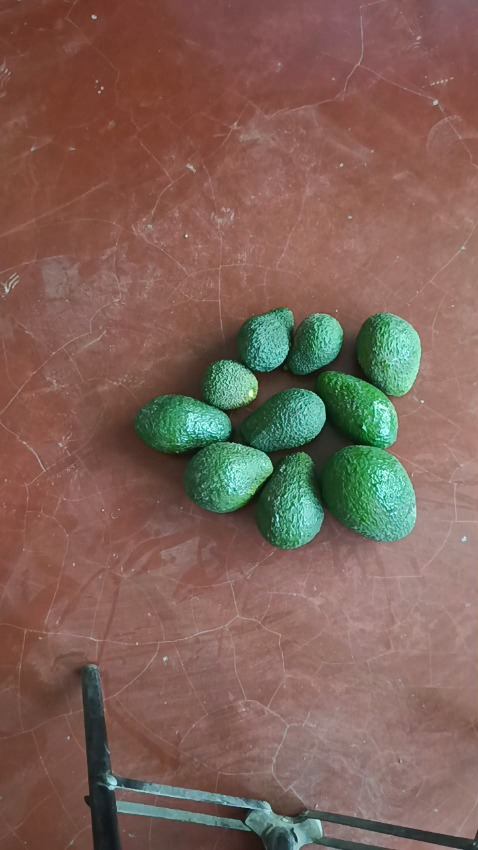Primera: (318, 444, 417, 540)
Segunda: (255, 453, 325, 547), (314, 370, 398, 448), (184, 441, 274, 513), (134, 395, 231, 454), (355, 312, 422, 396), (240, 388, 326, 453)
Tercera: (236, 307, 295, 373), (285, 313, 344, 377), (200, 359, 259, 411)
